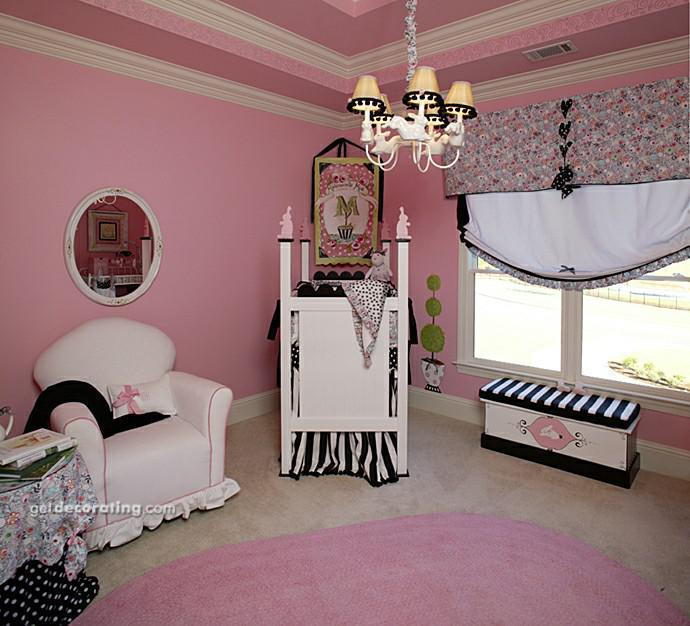Cama: (279, 208, 412, 483)
Ventana: (464, 147, 689, 405)
